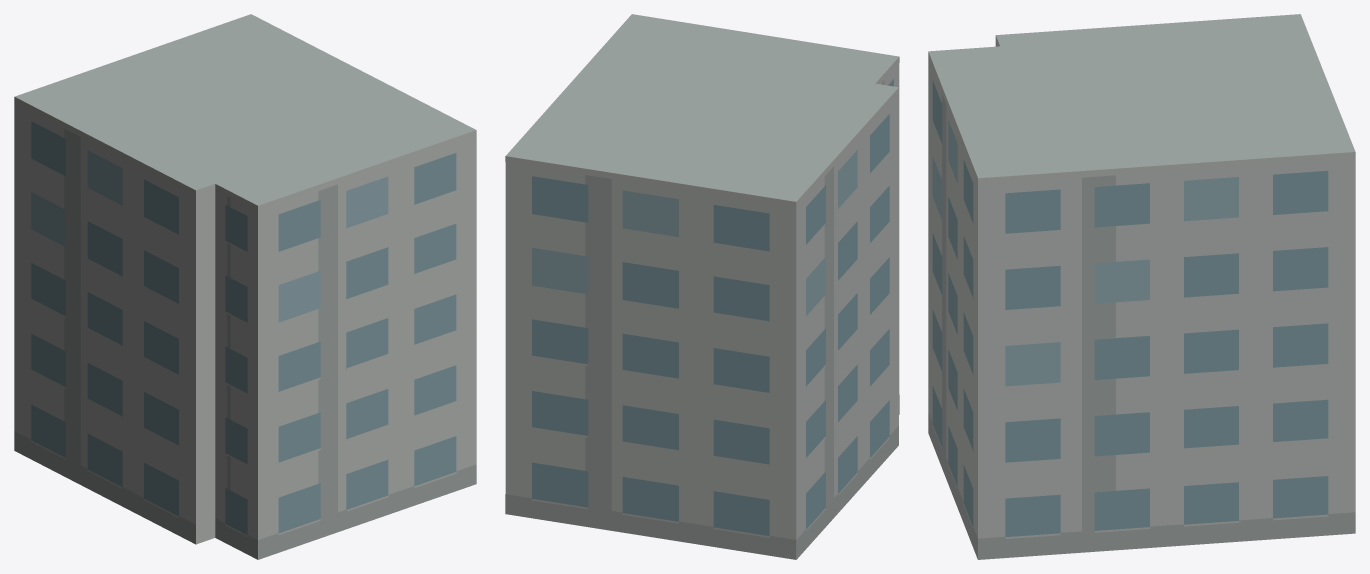
Rendered from survey-upis-32973350.glb.
3 views of the same model, side by side, from view 1: azimuth 30°, elevation 25°; view 2: azimuth 150°, elevation 25°; view 3: azimuth 270°, elevation 25° (orthographic). The views are drawn at different scales.
Parts seen in each view (by area): view 1: survey-upis-32973350.tmp; view 2: survey-upis-32973350.tmp; view 3: survey-upis-32973350.tmp.
Boxes of the visible parts, box(x1,y1,x2,y2) form: survey-upis-32973350.tmp: box(14, 14, 476, 559); survey-upis-32973350.tmp: box(505, 14, 899, 559); survey-upis-32973350.tmp: box(928, 14, 1355, 559).
Size of the model in its own units: 12.94 by 14 by 14.22.
